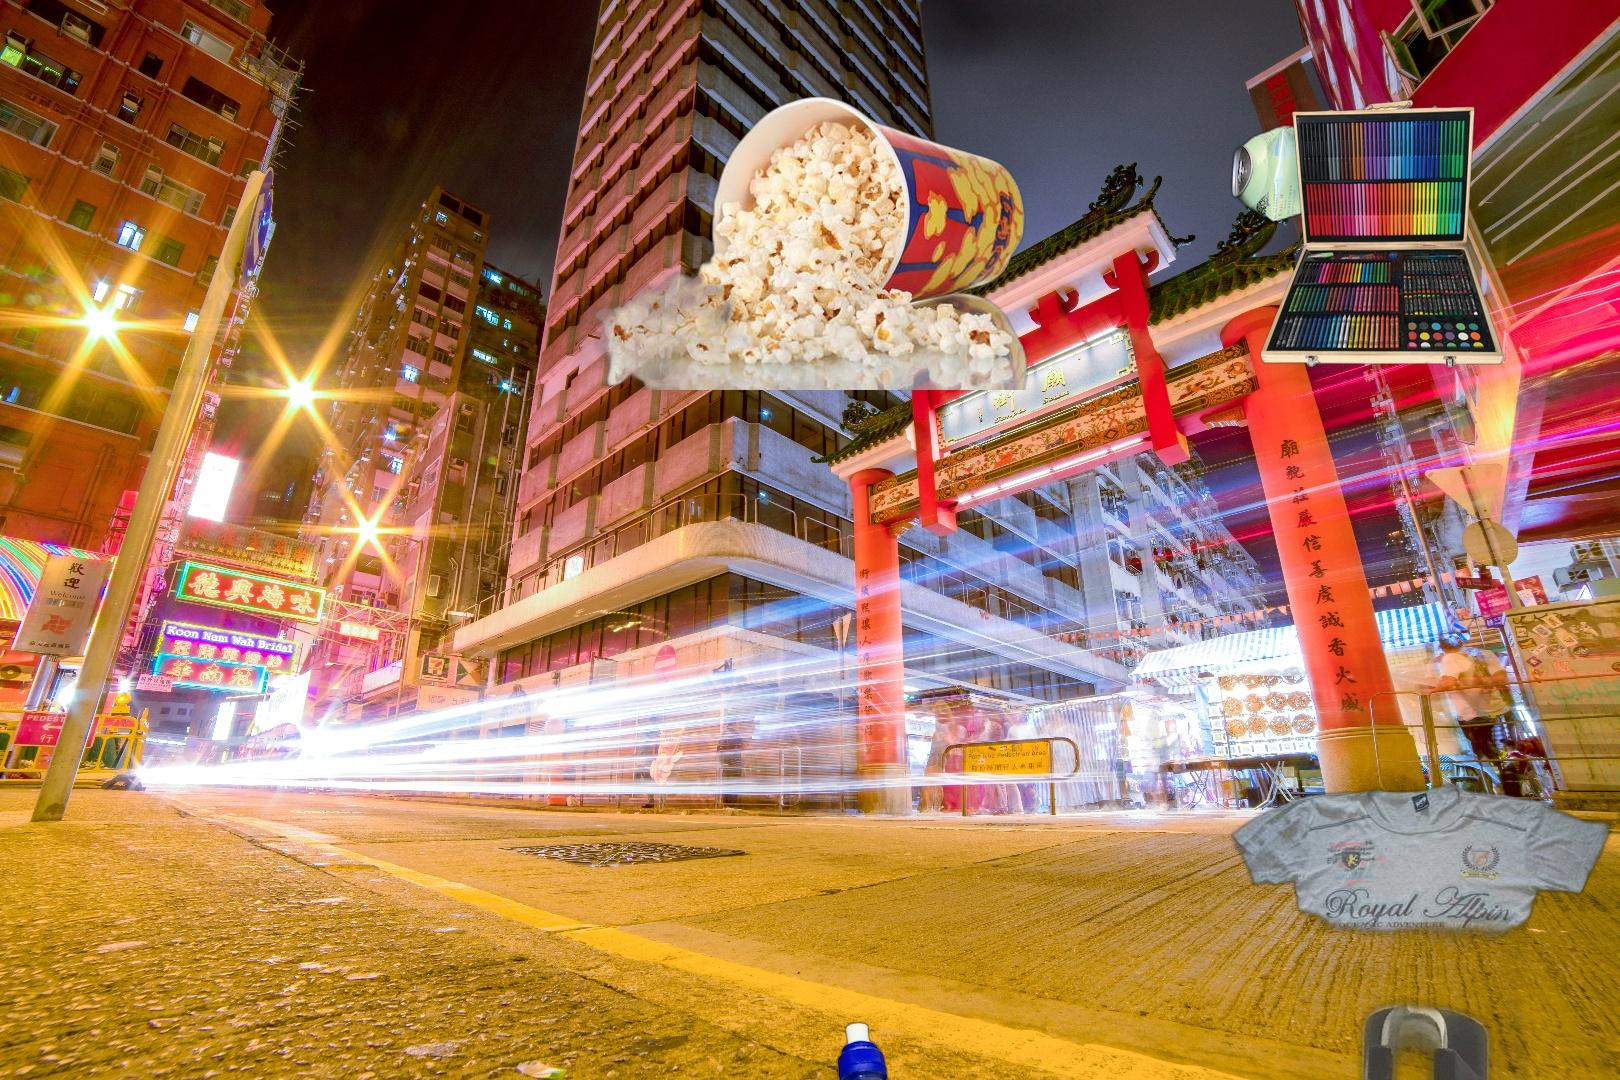biological: (477, 95, 1056, 391)
clothes: (1228, 780, 1616, 1080)
metal-cans: (1227, 121, 1620, 409)
penholder: (1257, 98, 1526, 378), (1260, 978, 1620, 1080)
plastic-bottles: (708, 1017, 1044, 1080)
